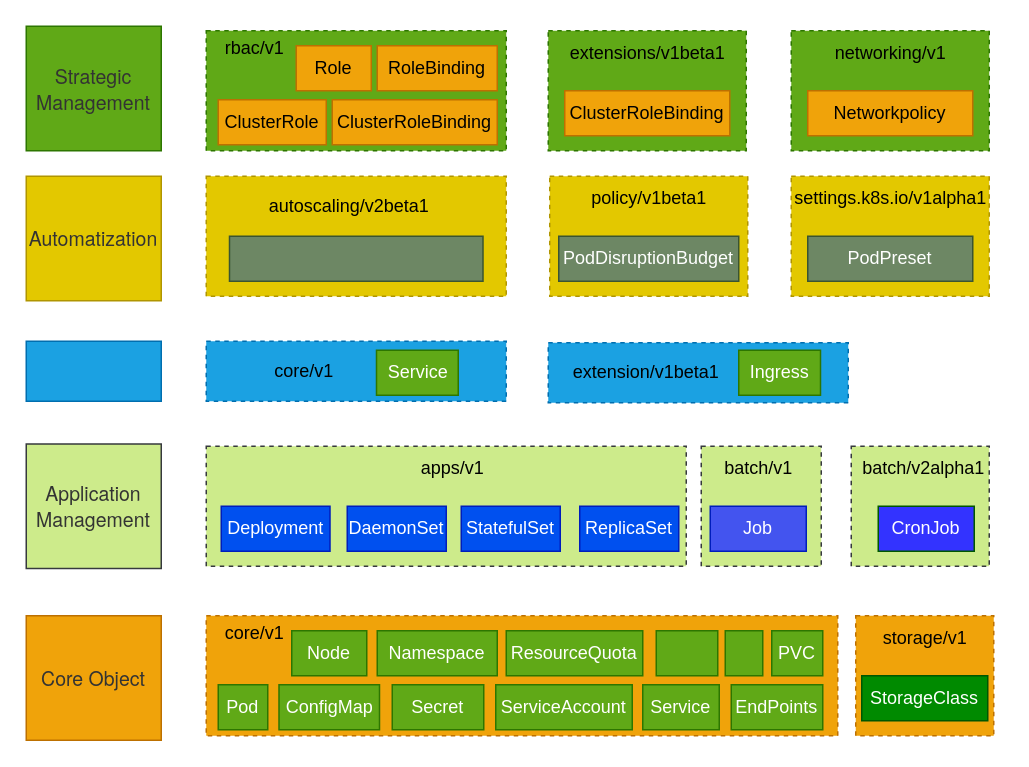
This 1029x767 diagram has some shape labels left out. The box of each missing label's shape, as (x1, y1, x2, y2) in pixels:
Event: (655, 629, 718, 676)
HorizontalPodAutoscaler: (228, 235, 483, 281)
PV: (724, 629, 763, 676)
Service Public: (25, 340, 161, 401)
